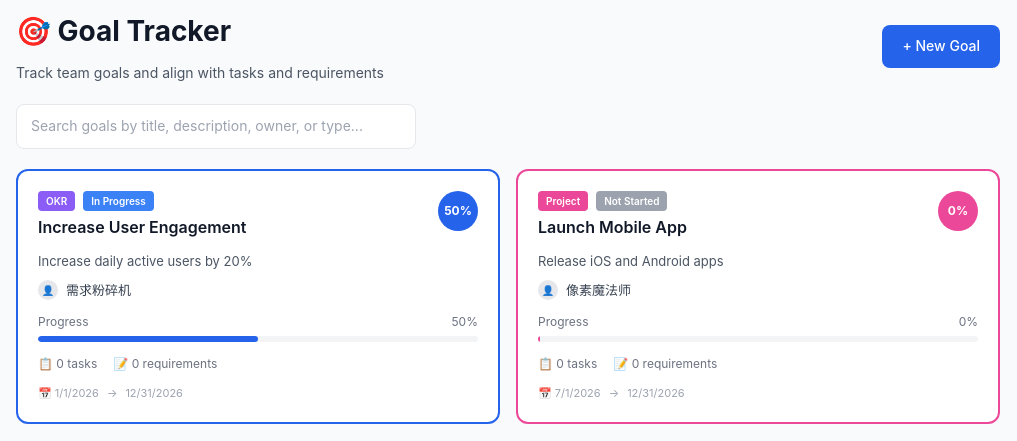
Test: Additional Component Tests › GoalTracker › should filter goals by search query
Type "Mobile" into the field with placeholder "Search goals by title, description, owner, or type..." at (216,126), box [16,104,416,149]
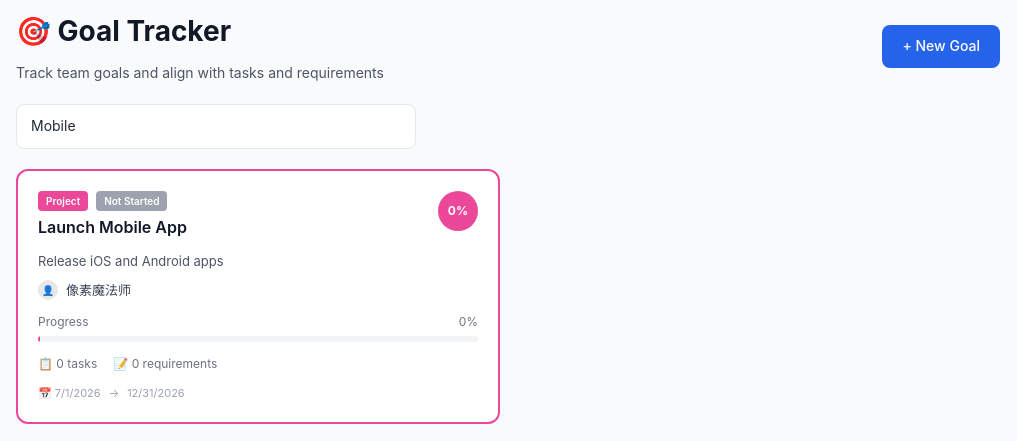
Expected: the heading "Launch Mobile App" is shown, [38,217,187,237]
Expected: the button "Increase User Engagement" is gone
